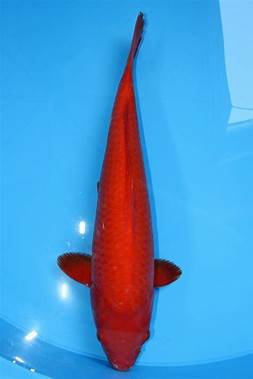red: (59, 11, 181, 373)
